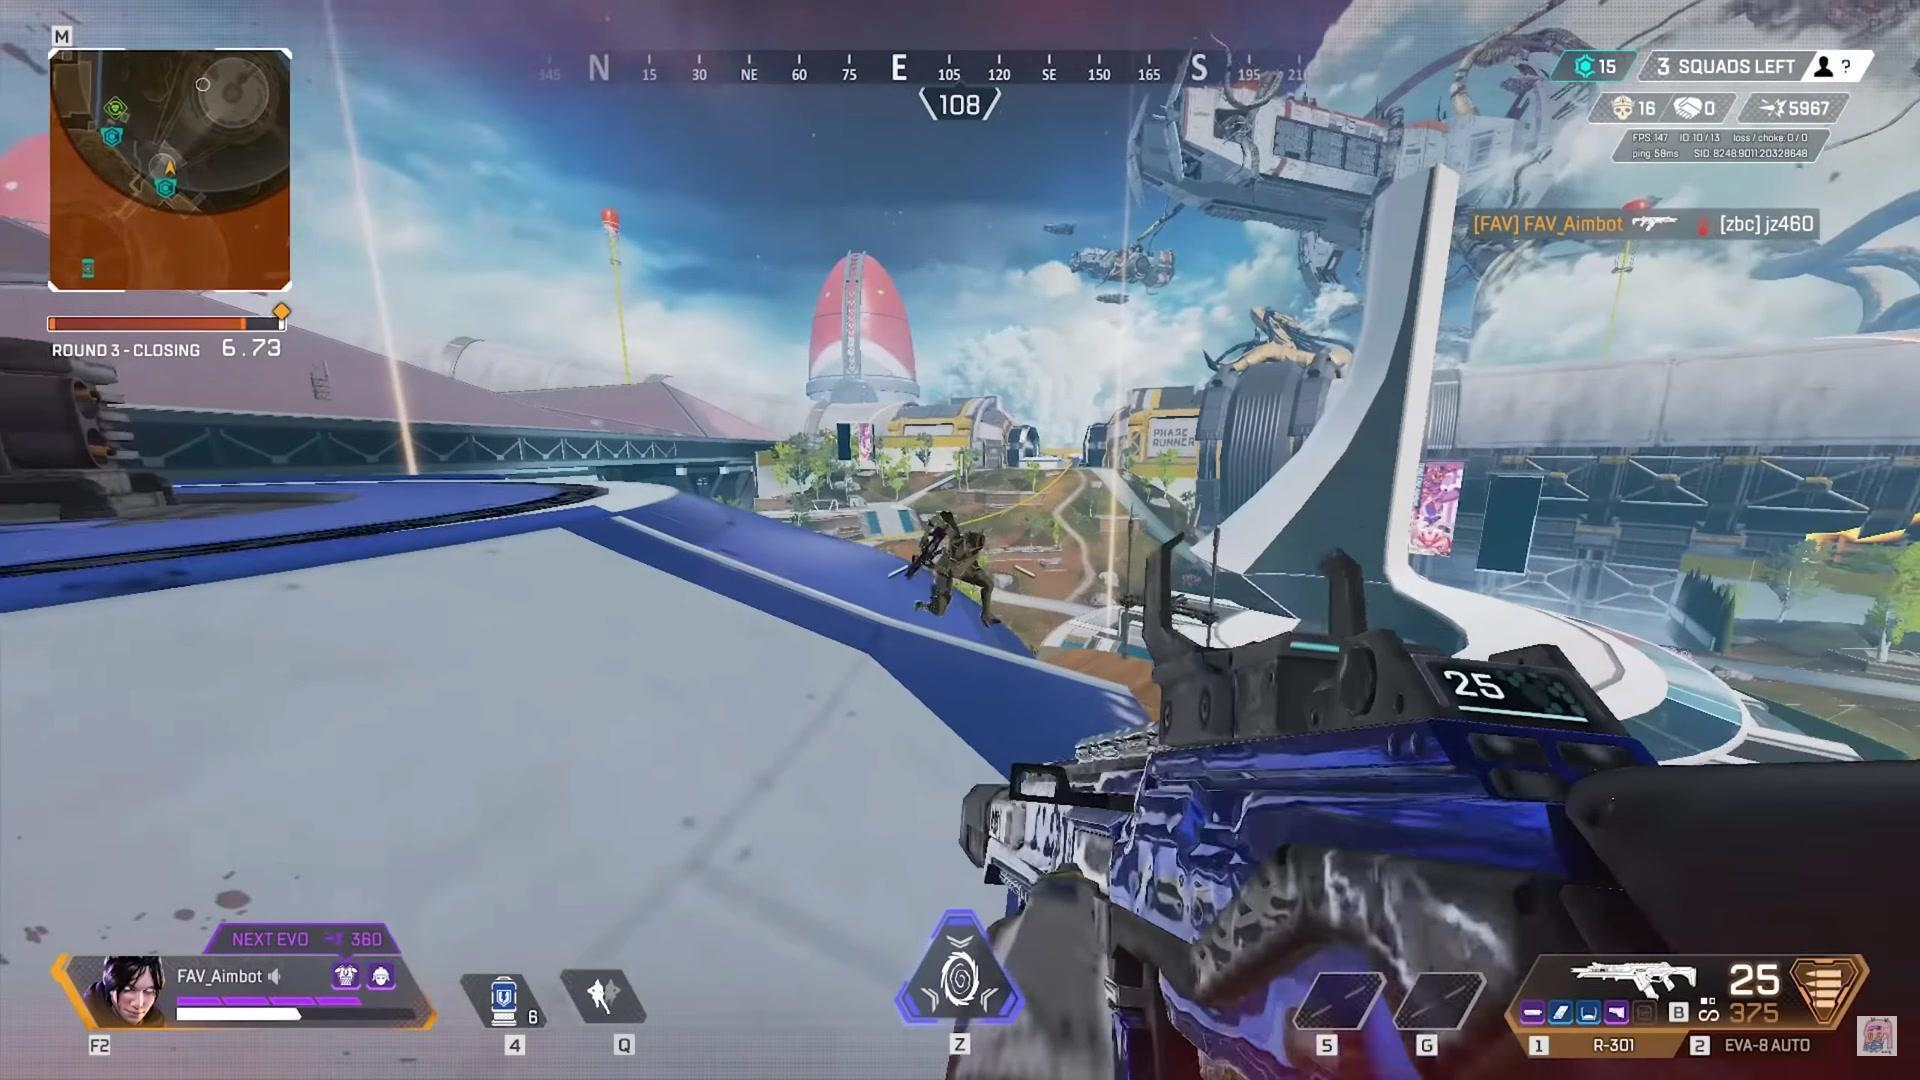avatar: (913, 523, 997, 623)
